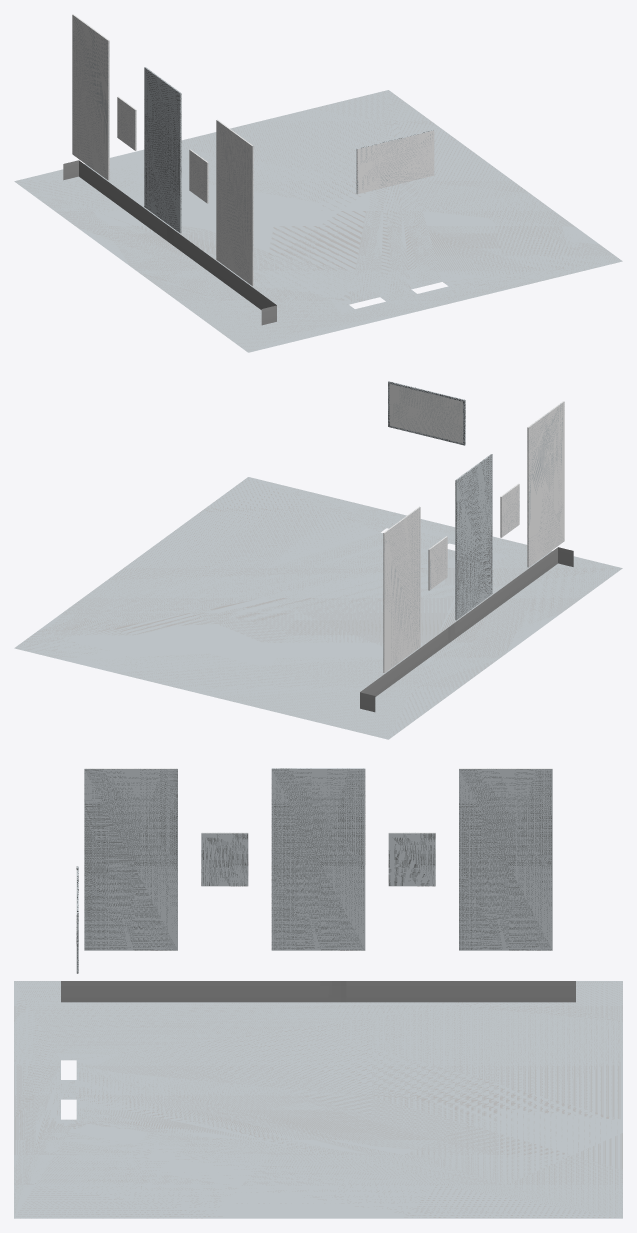
File: Booth_LOD.fbx
The picture shows the model from 3 angles, top to bottom: view 1: azimuth 30°, elevation 25°; view 2: azimuth 150°, elevation 25°; view 3: azimuth 270°, elevation 25°; orthographic projection. The views are drawn at different scales.
Parts seen in each view (by area): view 1: Booth_LOD0; view 2: Booth_LOD0; view 3: Booth_LOD0.
Part boxes in pixels (x1,y1,x2,y2): Booth_LOD0: [14, 14, 622, 352]; Booth_LOD0: [14, 381, 622, 739]; Booth_LOD0: [14, 768, 622, 1218].
Size of what is drawn, in the model's own units: 600 by 274 by 650.
